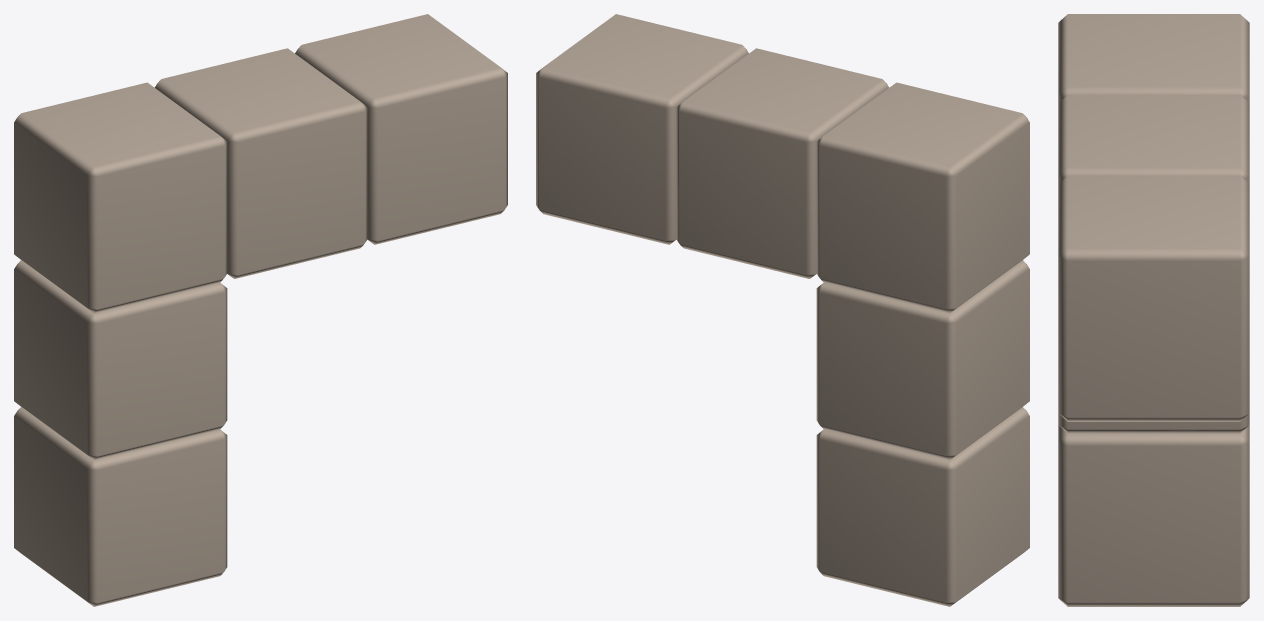
Rendered from FinNeutral4.fbx.
3 views of the same model, side by side, from view 1: azimuth 30°, elevation 25°; view 2: azimuth 150°, elevation 25°; view 3: azimuth 270°, elevation 25° (orthographic). The views are drawn at different scales.
Parts seen in each view (by area): view 1: geo1; view 2: geo1; view 3: geo1.
Boxes of the visible parts, box(x1,y1,x2,y2) form: geo1: box(14, 14, 507, 606); geo1: box(536, 14, 1029, 606); geo1: box(1058, 14, 1249, 606).
Size of the model in its own units: 3 by 3 by 1.
